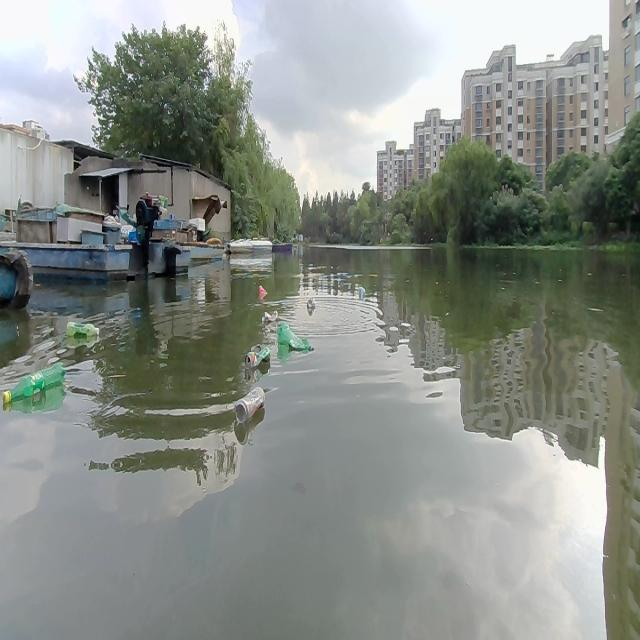bottle: (3, 358, 63, 410), (278, 326, 316, 358), (234, 388, 266, 422), (66, 318, 98, 344), (245, 346, 269, 372), (260, 306, 278, 324), (352, 281, 366, 303), (257, 281, 267, 298), (305, 297, 315, 313)
